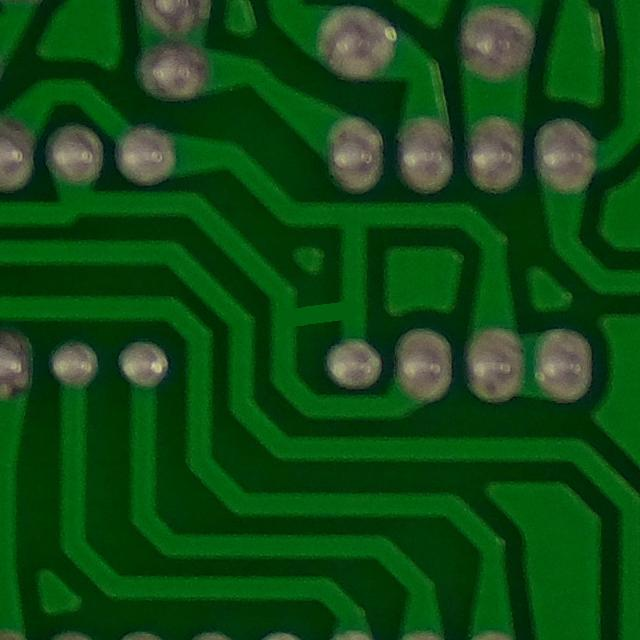short: (265, 273, 375, 368)
